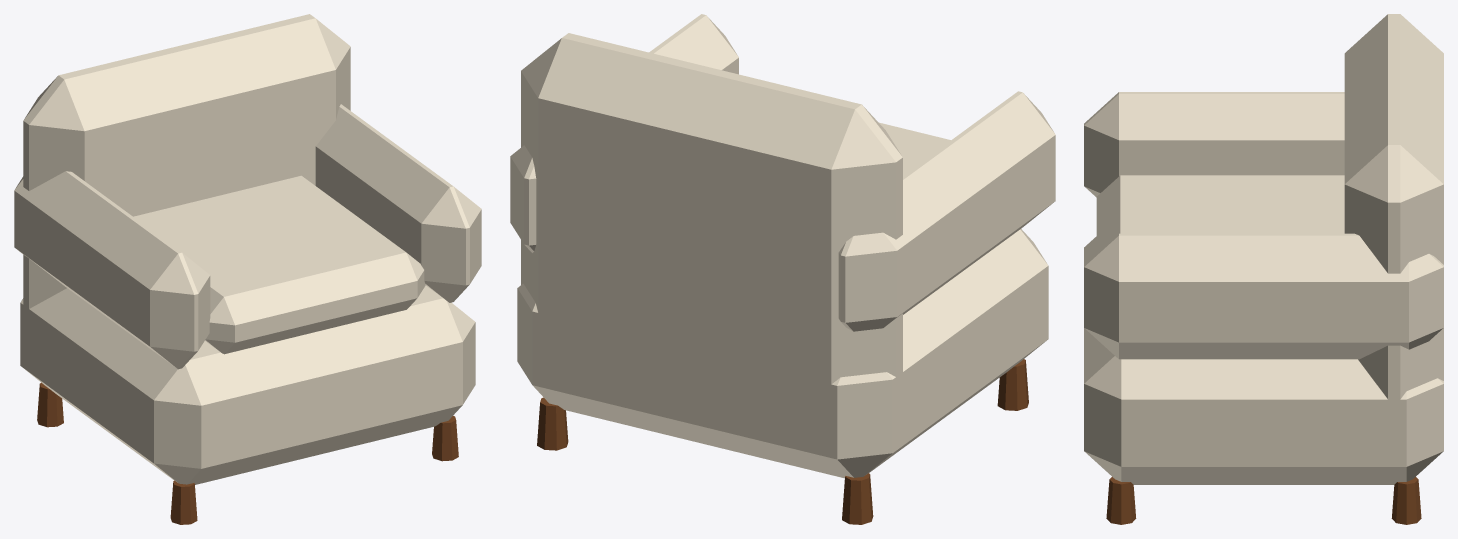
Rendered from CreamArmchair.fbx.
The picture shows the model from 3 angles, left to right: view 1: azimuth 30°, elevation 25°; view 2: azimuth 150°, elevation 25°; view 3: azimuth 270°, elevation 25°; orthographic projection. The views are drawn at different scales.
Parts seen in each view (by area): view 1: CreamArmchair; view 2: CreamArmchair; view 3: CreamArmchair.
Part boxes in pixels (x1,y1,x2,y2): CreamArmchair: (14,14,481,524); CreamArmchair: (510,14,1055,524); CreamArmchair: (1084,14,1443,524).
Bounding box in the file's own units: 3.3 × 3.3 × 2.9.
Materials: 1 (1 with a texture image).
